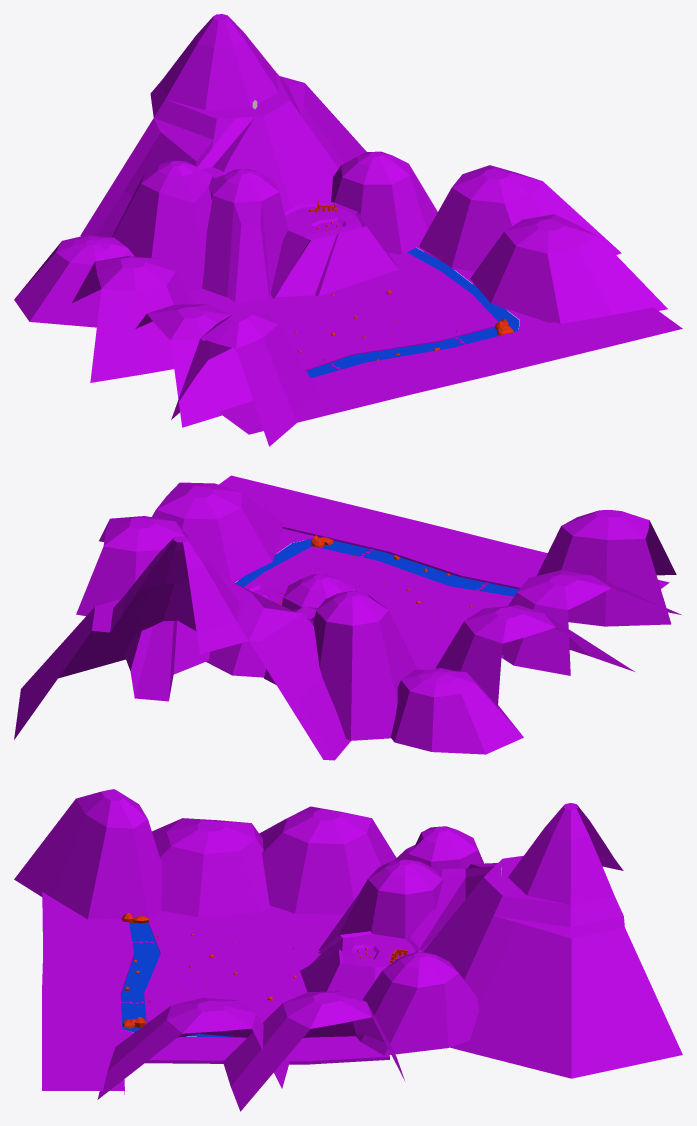
The model's file is Floresta.fbx.
3 views of the same model, one above another, from view 1: azimuth 30°, elevation 25°; view 2: azimuth 150°, elevation 25°; view 3: azimuth 270°, elevation 25° (orthographic). The views are drawn at different scales.
Visible parts, largest first — view 1: Montanha, Agua; view 2: Montanha, Agua; view 3: Montanha, Agua, AssetsFloresta.
Part boxes in pixels (x1,y1,x2,y2): Montanha: [14, 14, 682, 446]; Agua: [306, 248, 519, 377]; Montanha: [14, 475, 681, 760]; Agua: [235, 537, 519, 596]; Montanha: [14, 789, 682, 1111]; Agua: [120, 922, 233, 1036]; AssetsFloresta: [121, 913, 407, 1028].
Bounding box in the file's own units: 35602 × 12737 × 37555.
